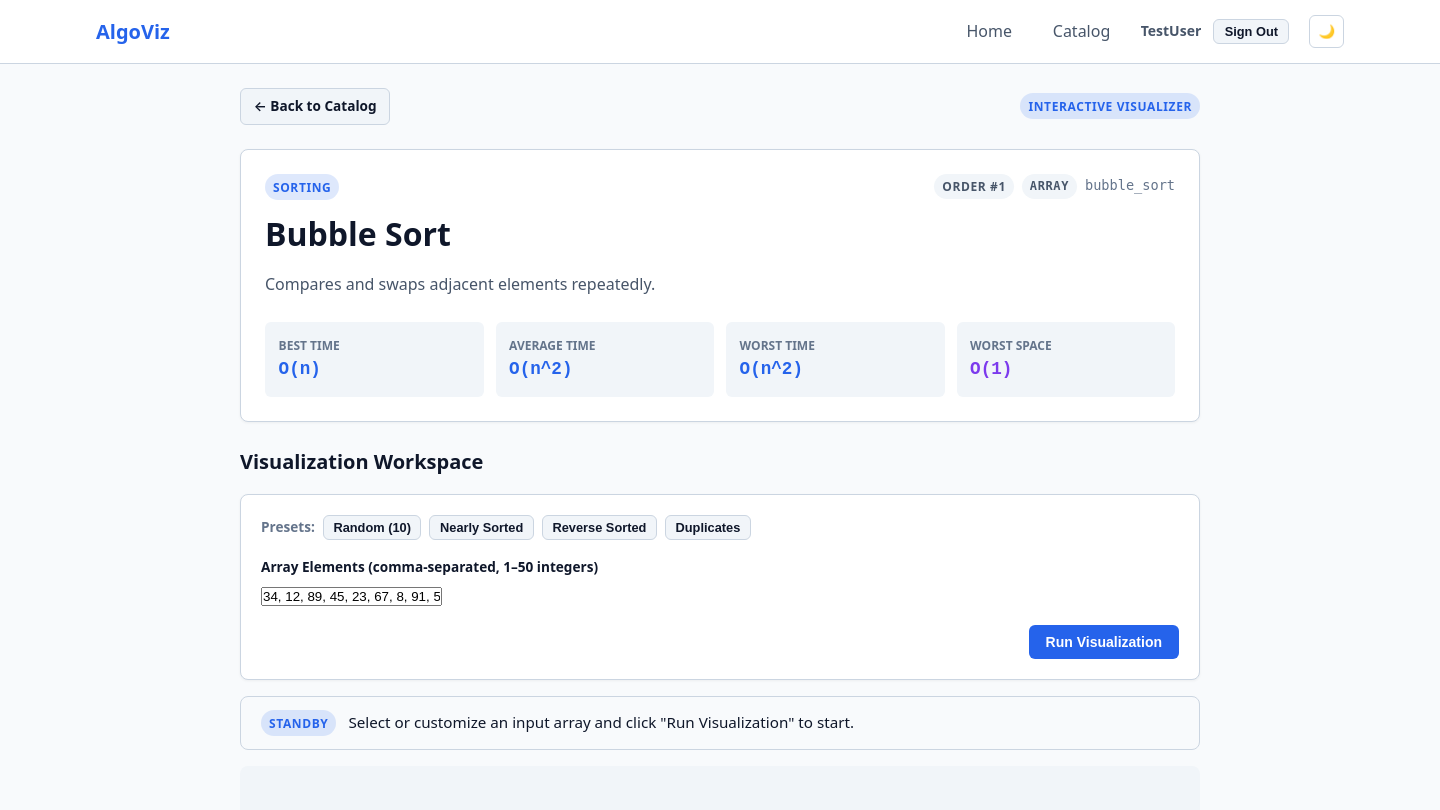
Scenario: Phase 10D Visualizers & Integration Tests › 5. VisualizerPage Interactive End-to-End Tests › renders safe error banner when engine visualization request fails
Expected: the heading "Bubble Sort" is shown, left=265, top=208, right=451, bottom=259
Click the button "Run Visualization".
click(1104, 642)  # box left=1029, top=625, right=1179, bottom=659
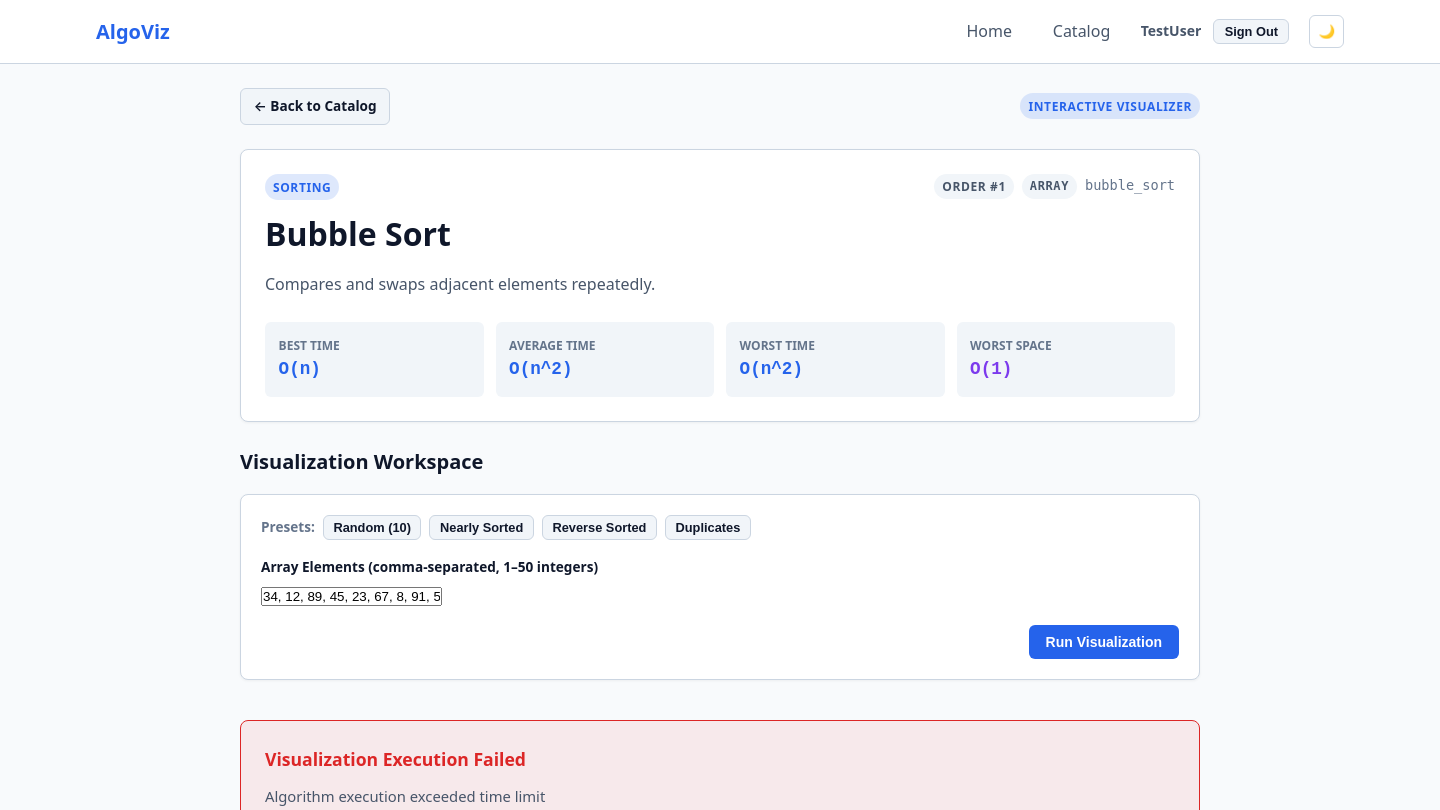
Now the text "Algorithm execution exceeded time limit" is shown, box left=265, top=786, right=545, bottom=806
